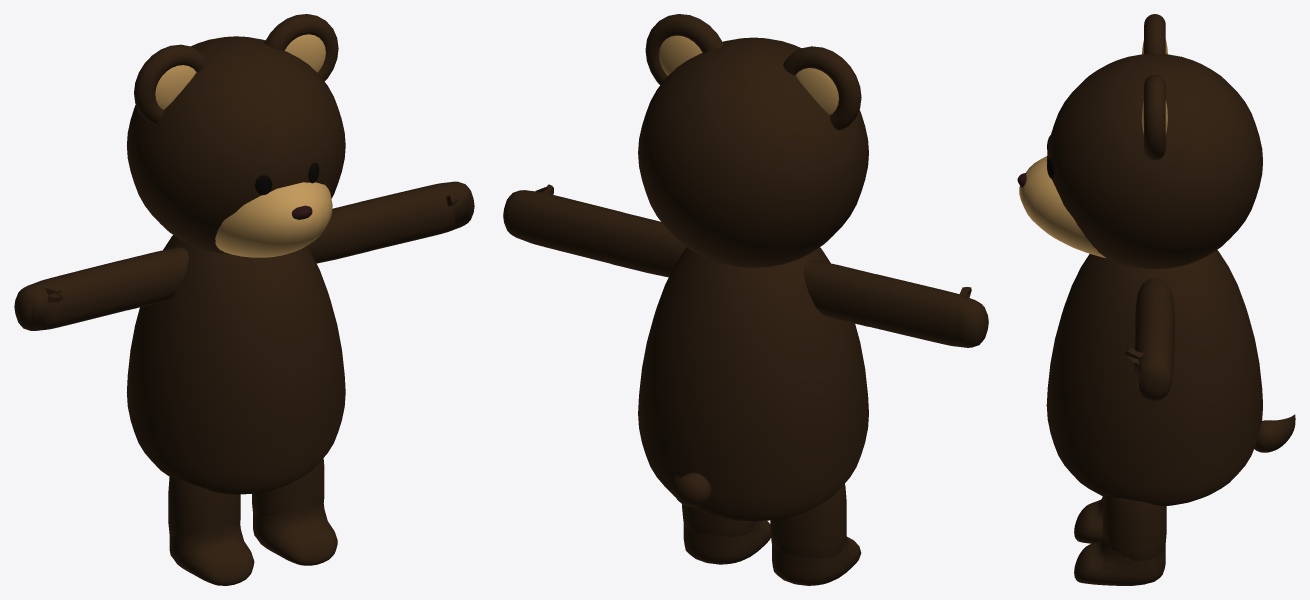
Rendered from bear.obj.
3 renders of one model, left to right at view 1: azimuth 30°, elevation 25°; view 2: azimuth 150°, elevation 25°; view 3: azimuth 270°, elevation 25°, orthographic. The views are drawn at different scales.
Parts seen in each view (by area): view 1: Main.001, Main, Mouth, Arm, Arm.001, Foot.001, Foot, Hip, Elbow, Elbow.001, LeftEar, Hip.001 (+3 smaller); view 2: Main.001, Main, Arm, Arm.001, Elbow.001, Hip, Elbow, LeftEar, Foot, Foot.001, RightEar, Hip.001 (+3 smaller); view 3: Main.001, Main, Hip.001, Arm.001, Mouth, Foot.001, RightEar, Elbow.001, Tail, Foot, LeftEar.
Boxes of the visible parts, x1,y1,x2,y2 form: Main.001: (127, 235, 345, 494); Main: (127, 36, 345, 253); Mouth: (215, 182, 332, 257); Arm: (14, 260, 134, 330); Arm.001: (359, 181, 474, 250); Foot.001: (253, 496, 337, 565); Foot: (169, 516, 254, 585); Hip: (168, 476, 240, 537); Elbow: (121, 247, 188, 310); Elbow.001: (307, 202, 375, 263); LeftEar: (134, 44, 207, 124); Hip.001: (252, 458, 324, 517); Main.001: (638, 247, 868, 521); Main: (638, 37, 868, 267); Arm: (862, 274, 988, 347); Arm.001: (503, 184, 623, 262); Elbow.001: (602, 212, 686, 277); Hip: (770, 484, 846, 558); Elbow: (803, 260, 874, 326); LeftEar: (783, 46, 861, 130); Foot: (772, 536, 861, 585); Foot.001: (683, 520, 770, 564); RightEar: (645, 14, 723, 84); Hip.001: (682, 504, 756, 537); Main.001: (1046, 250, 1262, 505); Main: (1046, 54, 1262, 268); Hip.001: (1103, 496, 1166, 561); Arm.001: (1125, 310, 1174, 400); Mouth: (1019, 156, 1106, 258); Foot.001: (1074, 520, 1165, 585); RightEar: (1144, 74, 1165, 159); Elbow.001: (1135, 277, 1174, 334); Tail: (1254, 414, 1295, 452); Foot: (1074, 496, 1103, 543); LeftEar: (1144, 14, 1165, 54).
Size of what is drawn, in the model's own units: 4.78 by 5.2 by 2.57.
